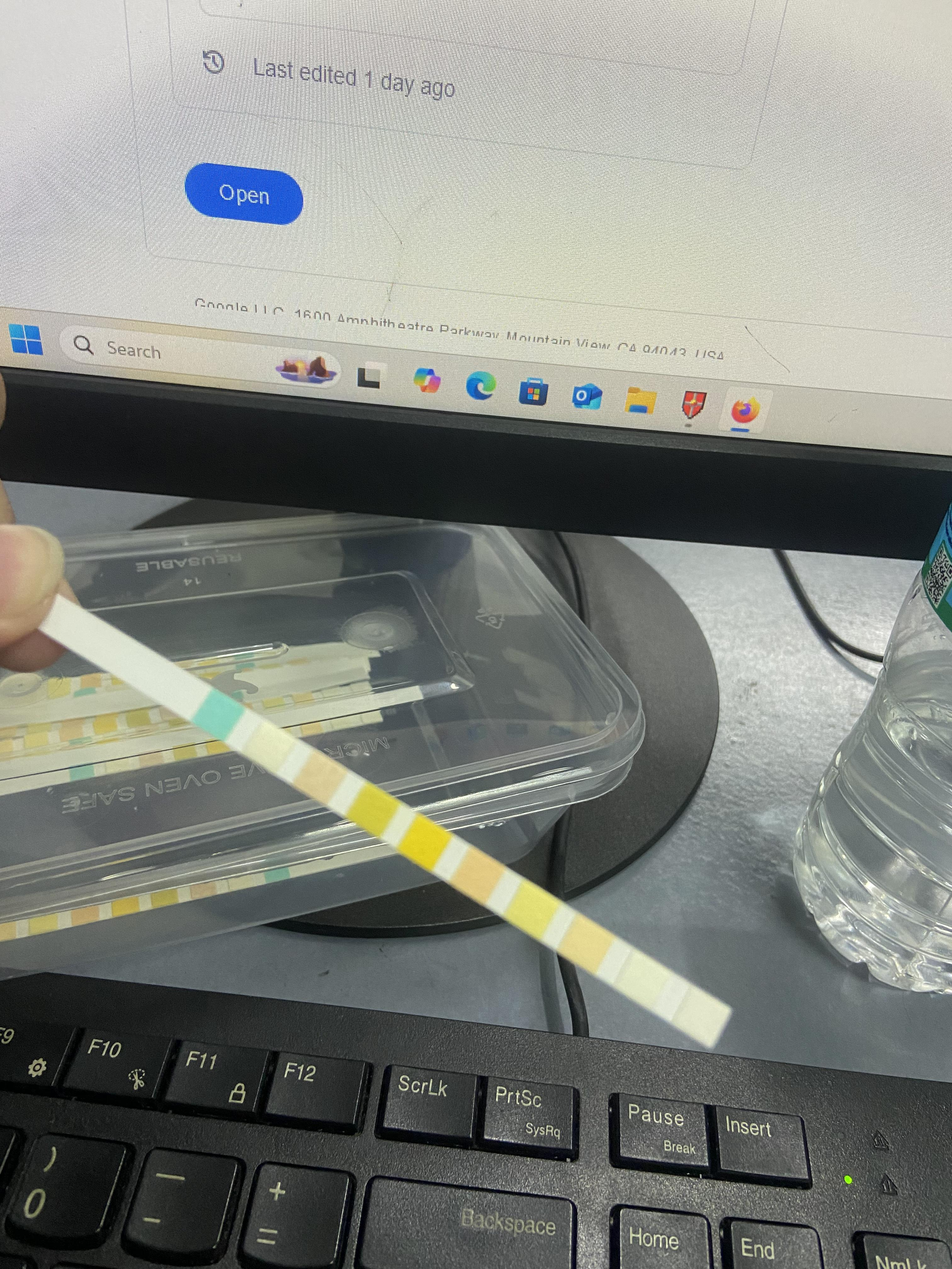Bilirubin: (252, 733, 287, 759)
Blood: (407, 828, 441, 855)
Glucose: (203, 703, 234, 726)
Ketone: (305, 765, 336, 790)
Leukocytes: (680, 1003, 721, 1030)
Nitrite: (623, 965, 659, 992)
Protein: (514, 894, 549, 923)
SpGravity: (354, 797, 390, 822)
Urobilinogen: (567, 928, 602, 957)
pH: (461, 864, 496, 888)
strip: (37, 593, 733, 1049)
